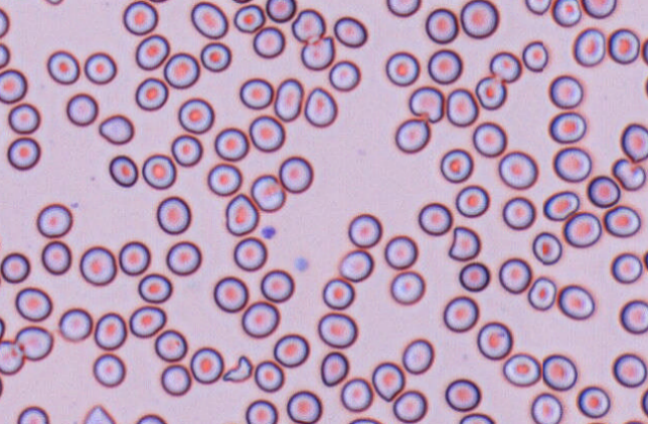PLT: (293, 255, 311, 272), (261, 224, 276, 239)
RBC: (497, 150, 538, 189), (459, 0, 499, 39), (79, 245, 116, 286), (190, 0, 228, 39), (562, 211, 602, 248), (241, 300, 279, 338), (317, 312, 357, 348), (552, 146, 592, 182), (224, 193, 258, 235), (557, 283, 595, 320), (248, 115, 285, 152), (177, 97, 214, 134), (476, 321, 512, 359), (541, 353, 577, 391), (502, 352, 541, 387), (14, 325, 53, 360), (156, 195, 191, 234), (371, 361, 405, 401), (304, 86, 337, 127), (163, 52, 199, 89), (408, 85, 444, 122), (442, 295, 478, 332), (36, 202, 73, 238), (14, 286, 52, 321), (250, 174, 285, 212), (278, 155, 313, 193), (273, 77, 303, 121), (572, 27, 605, 67), (394, 117, 430, 153), (213, 275, 248, 312), (189, 346, 223, 384), (93, 312, 127, 350), (446, 87, 478, 127), (427, 48, 462, 84), (286, 389, 322, 424), (389, 270, 425, 305), (141, 153, 176, 189), (165, 240, 201, 275), (347, 212, 382, 248), (122, 0, 158, 35), (385, 50, 420, 86), (128, 305, 166, 338), (603, 204, 641, 237), (612, 352, 647, 387), (206, 162, 242, 196), (135, 34, 169, 70), (273, 333, 309, 367), (472, 121, 506, 157), (498, 257, 531, 294), (444, 378, 481, 411), (425, 7, 458, 44), (548, 111, 586, 143), (300, 35, 334, 70), (291, 8, 325, 43), (392, 389, 427, 423), (339, 377, 373, 412), (233, 236, 267, 271), (92, 352, 126, 387), (259, 268, 294, 302), (417, 201, 452, 235), (58, 307, 92, 342), (439, 148, 473, 183), (214, 126, 248, 161), (46, 49, 80, 84), (548, 74, 583, 108), (401, 338, 434, 374), (607, 28, 640, 64), (7, 136, 41, 170), (134, 77, 168, 111), (338, 249, 373, 282), (384, 234, 417, 269), (98, 113, 134, 145), (542, 190, 579, 221), (586, 174, 620, 207), (154, 328, 187, 362), (576, 385, 610, 418), (455, 184, 489, 217), (65, 92, 98, 126), (502, 196, 535, 230), (83, 51, 117, 84), (118, 240, 150, 275), (620, 122, 648, 162), (252, 25, 285, 58), (610, 251, 643, 284), (333, 15, 367, 47), (239, 77, 273, 109), (475, 75, 506, 110), (137, 272, 172, 303), (40, 240, 71, 275), (170, 134, 202, 167), (321, 277, 354, 309), (7, 102, 40, 134), (531, 231, 562, 265), (530, 392, 562, 424), (328, 59, 360, 91), (489, 50, 521, 82), (160, 363, 191, 396), (320, 351, 349, 386), (527, 276, 556, 311), (619, 299, 648, 334), (458, 261, 490, 292), (199, 41, 231, 72), (254, 359, 284, 392), (108, 154, 138, 187), (0, 251, 30, 283), (233, 3, 265, 33), (0, 68, 27, 103), (0, 340, 25, 375), (521, 40, 548, 72), (244, 399, 278, 424), (552, 0, 581, 26), (81, 404, 116, 424), (265, 0, 296, 22), (581, 0, 616, 18), (16, 405, 49, 424), (385, 0, 421, 17), (458, 412, 495, 424), (524, 0, 551, 15), (133, 413, 167, 424), (345, 416, 385, 424), (0, 6, 9, 38), (0, 42, 10, 69), (641, 386, 648, 418), (641, 35, 648, 66), (620, 418, 648, 424), (643, 72, 648, 101), (0, 314, 5, 342), (643, 246, 648, 272), (0, 372, 4, 402), (41, 0, 65, 5), (229, 0, 254, 4), (214, 421, 243, 424), (583, 421, 612, 424), (145, 0, 173, 3), (0, 229, 3, 255)
Schistocyte: (448, 225, 483, 263), (613, 157, 646, 192), (222, 354, 254, 383)
